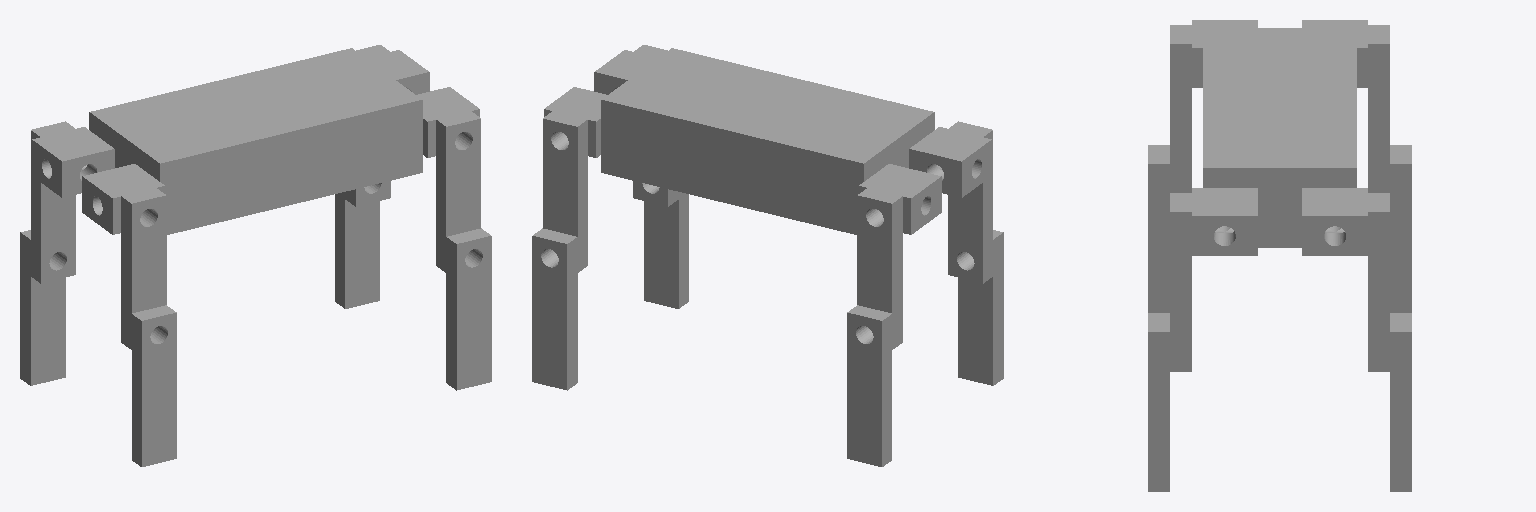
URDF robot description (dot):
<?xml version="1.0" encoding="utf-8"?>
<!-- =================================================================================== -->
<!-- |    This document was autogenerated by xacro from dot.xacro                      | -->
<!-- |    EDITING THIS FILE BY HAND IS NOT RECOMMENDED                                 | -->
<!-- =================================================================================== -->
<robot name="dot">
  <material name="silver">
    <color rgba="0.700 0.700 0.700 1.000"/>
  </material>
  <transmission name="Rev1_tran">
    <type>transmission_interface/SimpleTransmission</type>
    <joint name="Rev1">
      <hardwareInterface>hardware_interface/EffortJointInterface</hardwareInterface>
    </joint>
    <actuator name="Rev1_actr">
      <hardwareInterface>hardware_interface/EffortJointInterface</hardwareInterface>
      <mechanicalReduction>1</mechanicalReduction>
    </actuator>
  </transmission>
  <transmission name="Rev2_tran">
    <type>transmission_interface/SimpleTransmission</type>
    <joint name="Rev2">
      <hardwareInterface>hardware_interface/EffortJointInterface</hardwareInterface>
    </joint>
    <actuator name="Rev2_actr">
      <hardwareInterface>hardware_interface/EffortJointInterface</hardwareInterface>
      <mechanicalReduction>1</mechanicalReduction>
    </actuator>
  </transmission>
  <transmission name="Rev3_tran">
    <type>transmission_interface/SimpleTransmission</type>
    <joint name="Rev3">
      <hardwareInterface>hardware_interface/EffortJointInterface</hardwareInterface>
    </joint>
    <actuator name="Rev3_actr">
      <hardwareInterface>hardware_interface/EffortJointInterface</hardwareInterface>
      <mechanicalReduction>1</mechanicalReduction>
    </actuator>
  </transmission>
  <transmission name="Rev4_tran">
    <type>transmission_interface/SimpleTransmission</type>
    <joint name="Rev4">
      <hardwareInterface>hardware_interface/EffortJointInterface</hardwareInterface>
    </joint>
    <actuator name="Rev4_actr">
      <hardwareInterface>hardware_interface/EffortJointInterface</hardwareInterface>
      <mechanicalReduction>1</mechanicalReduction>
    </actuator>
  </transmission>
  <transmission name="Rev5_tran">
    <type>transmission_interface/SimpleTransmission</type>
    <joint name="Rev5">
      <hardwareInterface>hardware_interface/EffortJointInterface</hardwareInterface>
    </joint>
    <actuator name="Rev5_actr">
      <hardwareInterface>hardware_interface/EffortJointInterface</hardwareInterface>
      <mechanicalReduction>1</mechanicalReduction>
    </actuator>
  </transmission>
  <transmission name="Rev6_tran">
    <type>transmission_interface/SimpleTransmission</type>
    <joint name="Rev6">
      <hardwareInterface>hardware_interface/EffortJointInterface</hardwareInterface>
    </joint>
    <actuator name="Rev6_actr">
      <hardwareInterface>hardware_interface/EffortJointInterface</hardwareInterface>
      <mechanicalReduction>1</mechanicalReduction>
    </actuator>
  </transmission>
  <transmission name="Rev7_tran">
    <type>transmission_interface/SimpleTransmission</type>
    <joint name="Rev7">
      <hardwareInterface>hardware_interface/EffortJointInterface</hardwareInterface>
    </joint>
    <actuator name="Rev7_actr">
      <hardwareInterface>hardware_interface/EffortJointInterface</hardwareInterface>
      <mechanicalReduction>1</mechanicalReduction>
    </actuator>
  </transmission>
  <transmission name="Rev8_tran">
    <type>transmission_interface/SimpleTransmission</type>
    <joint name="Rev8">
      <hardwareInterface>hardware_interface/EffortJointInterface</hardwareInterface>
    </joint>
    <actuator name="Rev8_actr">
      <hardwareInterface>hardware_interface/EffortJointInterface</hardwareInterface>
      <mechanicalReduction>1</mechanicalReduction>
    </actuator>
  </transmission>
  <transmission name="Rev9_tran">
    <type>transmission_interface/SimpleTransmission</type>
    <joint name="Rev9">
      <hardwareInterface>hardware_interface/EffortJointInterface</hardwareInterface>
    </joint>
    <actuator name="Rev9_actr">
      <hardwareInterface>hardware_interface/EffortJointInterface</hardwareInterface>
      <mechanicalReduction>1</mechanicalReduction>
    </actuator>
  </transmission>
  <transmission name="Rev10_tran">
    <type>transmission_interface/SimpleTransmission</type>
    <joint name="Rev10">
      <hardwareInterface>hardware_interface/EffortJointInterface</hardwareInterface>
    </joint>
    <actuator name="Rev10_actr">
      <hardwareInterface>hardware_interface/EffortJointInterface</hardwareInterface>
      <mechanicalReduction>1</mechanicalReduction>
    </actuator>
  </transmission>
  <transmission name="Rev11_tran">
    <type>transmission_interface/SimpleTransmission</type>
    <joint name="Rev11">
      <hardwareInterface>hardware_interface/EffortJointInterface</hardwareInterface>
    </joint>
    <actuator name="Rev11_actr">
      <hardwareInterface>hardware_interface/EffortJointInterface</hardwareInterface>
      <mechanicalReduction>1</mechanicalReduction>
    </actuator>
  </transmission>
  <transmission name="Rev12_tran">
    <type>transmission_interface/SimpleTransmission</type>
    <joint name="Rev12">
      <hardwareInterface>hardware_interface/EffortJointInterface</hardwareInterface>
    </joint>
    <actuator name="Rev12_actr">
      <hardwareInterface>hardware_interface/EffortJointInterface</hardwareInterface>
      <mechanicalReduction>1</mechanicalReduction>
    </actuator>
  </transmission>
  <gazebo>
    <plugin filename="libgazebo_ros_control.so" name="control"/>
  </gazebo>
  <gazebo reference="base_link">
    <material>Gazebo/Silver</material>
    <mu1>0.2</mu1>
    <mu2>0.2</mu2>
    <selfCollide>true</selfCollide>
    <gravity>true</gravity>
  </gazebo>
  <gazebo reference="rf_hip_link_1">
    <material>Gazebo/Silver</material>
    <mu1>0.2</mu1>
    <mu2>0.2</mu2>
    <selfCollide>true</selfCollide>
  </gazebo>
  <gazebo reference="lf_hip_link_1">
    <material>Gazebo/Silver</material>
    <mu1>0.2</mu1>
    <mu2>0.2</mu2>
    <selfCollide>true</selfCollide>
  </gazebo>
  <gazebo reference="lh_hip_link_1">
    <material>Gazebo/Silver</material>
    <mu1>0.2</mu1>
    <mu2>0.2</mu2>
    <selfCollide>true</selfCollide>
  </gazebo>
  <gazebo reference="rh_hip_link_1">
    <material>Gazebo/Silver</material>
    <mu1>0.2</mu1>
    <mu2>0.2</mu2>
    <selfCollide>true</selfCollide>
  </gazebo>
  <gazebo reference="rf_upper_leg_link_1">
    <material>Gazebo/Silver</material>
    <mu1>0.2</mu1>
    <mu2>0.2</mu2>
    <selfCollide>true</selfCollide>
  </gazebo>
  <gazebo reference="lf_upper_leg_link_1">
    <material>Gazebo/Silver</material>
    <mu1>0.2</mu1>
    <mu2>0.2</mu2>
    <selfCollide>true</selfCollide>
  </gazebo>
  <gazebo reference="lh_upper_leg_link_1">
    <material>Gazebo/Silver</material>
    <mu1>0.2</mu1>
    <mu2>0.2</mu2>
    <selfCollide>true</selfCollide>
  </gazebo>
  <gazebo reference="rh_upper_leg_link_1">
    <material>Gazebo/Silver</material>
    <mu1>0.2</mu1>
    <mu2>0.2</mu2>
    <selfCollide>true</selfCollide>
  </gazebo>
  <gazebo reference="rf_lower_leg_link_1">
    <material>Gazebo/Silver</material>
    <mu1>0.2</mu1>
    <mu2>0.2</mu2>
    <selfCollide>true</selfCollide>
  </gazebo>
  <gazebo reference="lf_lower_leg_link_1">
    <material>Gazebo/Silver</material>
    <mu1>0.2</mu1>
    <mu2>0.2</mu2>
    <selfCollide>true</selfCollide>
  </gazebo>
  <gazebo reference="lh_lower_leg_link_1">
    <material>Gazebo/Silver</material>
    <mu1>0.2</mu1>
    <mu2>0.2</mu2>
    <selfCollide>true</selfCollide>
  </gazebo>
  <gazebo reference="rh_lower_leg_link_1">
    <material>Gazebo/Silver</material>
    <mu1>0.2</mu1>
    <mu2>0.2</mu2>
    <selfCollide>true</selfCollide>
  </gazebo>
  <link name="base_link">
    <inertial>
      <origin rpy="0 0 0" xyz="0.0 0.0 0.0"/>
      <mass value="3.112038732519901"/>
      <inertia ixx="0.001668" ixy="0.0" ixz="0.0" iyy="0.006274" iyz="0.0" izz="0.007065"/>
    </inertial>
    <visual>
      <origin rpy="0 0 0" xyz="0 0 0"/>
      <geometry>
        <mesh filename="package://dot_description/meshes/base_link.stl" scale="0.001 0.001 0.001"/>
      </geometry>
      <material name="silver"/>
    </visual>
    <collision>
      <origin rpy="0 0 0" xyz="0 0 0"/>
      <geometry>
        <mesh filename="package://dot_description/meshes/base_link.stl" scale="0.001 0.001 0.001"/>
      </geometry>
    </collision>
  </link>
  <link name="rf_hip_link_1">
    <inertial>
      <origin rpy="0 0 0" xyz="0.014999999999911737 8.828354713941167e-14 0.0"/>
      <mass value="0.1095410798373143"/>
      <inertia ixx="1.4e-05" ixy="0.0" ixz="0.0" iyy="1.4e-05" iyz="0.0" izz="1.8e-05"/>
    </inertial>
    <visual>
      <origin rpy="0 0 0" xyz="-0.075 0.025 -0.0"/>
      <geometry>
        <mesh filename="package://dot_description/meshes/rf_hip_link_1.stl" scale="0.001 0.001 0.001"/>
      </geometry>
      <material name="silver"/>
    </visual>
    <collision>
      <origin rpy="0 0 0" xyz="-0.075 0.025 -0.0"/>
      <geometry>
        <mesh filename="package://dot_description/meshes/rf_hip_link_1.stl" scale="0.001 0.001 0.001"/>
      </geometry>
    </collision>
  </link>
  <link name="lf_hip_link_1">
    <inertial>
      <origin rpy="0 0 0" xyz="0.014999999999911737 8.828354713941167e-14 0.0"/>
      <mass value="0.1095410798373143"/>
      <inertia ixx="1.4e-05" ixy="0.0" ixz="0.0" iyy="1.4e-05" iyz="0.0" izz="1.8e-05"/>
    </inertial>
    <visual>
      <origin rpy="0 0 0" xyz="-0.075 -0.025 -0.0"/>
      <geometry>
        <mesh filename="package://dot_description/meshes/lf_hip_link_1.stl" scale="0.001 0.001 0.001"/>
      </geometry>
      <material name="silver"/>
    </visual>
    <collision>
      <origin rpy="0 0 0" xyz="-0.075 -0.025 -0.0"/>
      <geometry>
        <mesh filename="package://dot_description/meshes/lf_hip_link_1.stl" scale="0.001 0.001 0.001"/>
      </geometry>
    </collision>
  </link>
  <link name="lh_hip_link_1">
    <inertial>
      <origin rpy="0 0 0" xyz="-0.01500000000008829 8.828354713941167e-14 0.0"/>
      <mass value="0.1095410798373143"/>
      <inertia ixx="1.4e-05" ixy="-0.0" ixz="-0.0" iyy="1.4e-05" iyz="0.0" izz="1.8e-05"/>
    </inertial>
    <visual>
      <origin rpy="0 0 0" xyz="0.075 -0.025 -0.0"/>
      <geometry>
        <mesh filename="package://dot_description/meshes/lh_hip_link_1.stl" scale="0.001 0.001 0.001"/>
      </geometry>
      <material name="silver"/>
    </visual>
    <collision>
      <origin rpy="0 0 0" xyz="0.075 -0.025 -0.0"/>
      <geometry>
        <mesh filename="package://dot_description/meshes/lh_hip_link_1.stl" scale="0.001 0.001 0.001"/>
      </geometry>
    </collision>
  </link>
  <link name="rh_hip_link_1">
    <inertial>
      <origin rpy="0 0 0" xyz="-0.01500000000008829 8.828354713941167e-14 0.0"/>
      <mass value="0.1095410798373143"/>
      <inertia ixx="1.4e-05" ixy="0.0" ixz="-0.0" iyy="1.4e-05" iyz="0.0" izz="1.8e-05"/>
    </inertial>
    <visual>
      <origin rpy="0 0 0" xyz="0.075 0.025 -0.0"/>
      <geometry>
        <mesh filename="package://dot_description/meshes/rh_hip_link_1.stl" scale="0.001 0.001 0.001"/>
      </geometry>
      <material name="silver"/>
    </visual>
    <collision>
      <origin rpy="0 0 0" xyz="0.075 0.025 -0.0"/>
      <geometry>
        <mesh filename="package://dot_description/meshes/rh_hip_link_1.stl" scale="0.001 0.001 0.001"/>
      </geometry>
    </collision>
  </link>
  <link name="rf_upper_leg_link_1">
    <inertial>
      <origin rpy="0 0 0" xyz="-5.69266855876549e-14 -0.0049999999999999906 -0.030000000000000006"/>
      <mass value="0.11326924883465952"/>
      <inertia ixx="5.7e-05" ixy="0.0" ixz="-0.0" iyy="6e-05" iyz="0.0" izz="5e-06"/>
    </inertial>
    <visual>
      <origin rpy="0 0 0" xyz="-0.09 0.04 -0.0"/>
      <geometry>
        <mesh filename="package://dot_description/meshes/rf_upper_leg_link_1.stl" scale="0.001 0.001 0.001"/>
      </geometry>
      <material name="silver"/>
    </visual>
    <collision>
      <origin rpy="0 0 0" xyz="-0.09 0.04 -0.0"/>
      <geometry>
        <mesh filename="package://dot_description/meshes/rf_upper_leg_link_1.stl" scale="0.001 0.001 0.001"/>
      </geometry>
    </collision>
  </link>
  <link name="lf_upper_leg_link_1">
    <inertial>
      <origin rpy="0 0 0" xyz="-5.69266855876549e-14 0.0049999999999999975 -0.030000000000000006"/>
      <mass value="0.11326924883465952"/>
      <inertia ixx="5.7e-05" ixy="-0.0" ixz="-0.0" iyy="6e-05" iyz="-0.0" izz="5e-06"/>
    </inertial>
    <visual>
      <origin rpy="0 0 0" xyz="-0.09 -0.04 -0.0"/>
      <geometry>
        <mesh filename="package://dot_description/meshes/lf_upper_leg_link_1.stl" scale="0.001 0.001 0.001"/>
      </geometry>
      <material name="silver"/>
    </visual>
    <collision>
      <origin rpy="0 0 0" xyz="-0.09 -0.04 -0.0"/>
      <geometry>
        <mesh filename="package://dot_description/meshes/lf_upper_leg_link_1.stl" scale="0.001 0.001 0.001"/>
      </geometry>
    </collision>
  </link>
  <link name="lh_upper_leg_link_1">
    <inertial>
      <origin rpy="0 0 0" xyz="5.69266855876549e-14 0.0049999999999999975 -0.030000000000000006"/>
      <mass value="0.11326924883465952"/>
      <inertia ixx="5.7e-05" ixy="0.0" ixz="0.0" iyy="6e-05" iyz="-0.0" izz="5e-06"/>
    </inertial>
    <visual>
      <origin rpy="0 0 0" xyz="0.09 -0.04 -0.0"/>
      <geometry>
        <mesh filename="package://dot_description/meshes/lh_upper_leg_link_1.stl" scale="0.001 0.001 0.001"/>
      </geometry>
      <material name="silver"/>
    </visual>
    <collision>
      <origin rpy="0 0 0" xyz="0.09 -0.04 -0.0"/>
      <geometry>
        <mesh filename="package://dot_description/meshes/lh_upper_leg_link_1.stl" scale="0.001 0.001 0.001"/>
      </geometry>
    </collision>
  </link>
  <link name="rh_upper_leg_link_1">
    <inertial>
      <origin rpy="0 0 0" xyz="5.69266855876549e-14 -0.0049999999999999906 -0.030000000000000006"/>
      <mass value="0.11326924883465952"/>
      <inertia ixx="5.7e-05" ixy="-0.0" ixz="0.0" iyy="6e-05" iyz="0.0" izz="5e-06"/>
    </inertial>
    <visual>
      <origin rpy="0 0 0" xyz="0.09 0.04 -0.0"/>
      <geometry>
        <mesh filename="package://dot_description/meshes/rh_upper_leg_link_1.stl" scale="0.001 0.001 0.001"/>
      </geometry>
      <material name="silver"/>
    </visual>
    <collision>
      <origin rpy="0 0 0" xyz="0.09 0.04 -0.0"/>
      <geometry>
        <mesh filename="package://dot_description/meshes/rh_upper_leg_link_1.stl" scale="0.001 0.001 0.001"/>
      </geometry>
    </collision>
  </link>
  <link name="rf_lower_leg_link_1">
    <inertial>
      <origin rpy="0 0 0" xyz="-2.6978419498391304e-14 -0.0049999999999999975 -0.03154864025723239"/>
      <mass value="0.11943462441732976"/>
      <inertia ixx="6.2e-05" ixy="-0.0" ixz="0.0" iyy="6.5e-05" iyz="0.0" izz="5e-06"/>
    </inertial>
    <visual>
      <origin rpy="0 0 0" xyz="-0.09 0.05 0.06"/>
      <geometry>
        <mesh filename="package://dot_description/meshes/rf_lower_leg_link_1.stl" scale="0.001 0.001 0.001"/>
      </geometry>
      <material name="silver"/>
    </visual>
    <collision>
      <origin rpy="0 0 0" xyz="-0.09 0.05 0.06"/>
      <geometry>
        <mesh filename="package://dot_description/meshes/rf_lower_leg_link_1.stl" scale="0.001 0.001 0.001"/>
      </geometry>
    </collision>
  </link>
  <link name="lf_lower_leg_link_1">
    <inertial>
      <origin rpy="0 0 0" xyz="-2.6978419498391304e-14 0.0050000000000000044 -0.03154864025723239"/>
      <mass value="0.11943462441732976"/>
      <inertia ixx="6.2e-05" ixy="0.0" ixz="0.0" iyy="6.5e-05" iyz="-0.0" izz="5e-06"/>
    </inertial>
    <visual>
      <origin rpy="0 0 0" xyz="-0.09 -0.05 0.06"/>
      <geometry>
        <mesh filename="package://dot_description/meshes/lf_lower_leg_link_1.stl" scale="0.001 0.001 0.001"/>
      </geometry>
      <material name="silver"/>
    </visual>
    <collision>
      <origin rpy="0 0 0" xyz="-0.09 -0.05 0.06"/>
      <geometry>
        <mesh filename="package://dot_description/meshes/lf_lower_leg_link_1.stl" scale="0.001 0.001 0.001"/>
      </geometry>
    </collision>
  </link>
  <link name="lh_lower_leg_link_1">
    <inertial>
      <origin rpy="0 0 0" xyz="2.6978419498391304e-14 0.0050000000000000044 -0.03154864025723239"/>
      <mass value="0.11943462441732976"/>
      <inertia ixx="6.2e-05" ixy="-0.0" ixz="-0.0" iyy="6.5e-05" iyz="-0.0" izz="5e-06"/>
    </inertial>
    <visual>
      <origin rpy="0 0 0" xyz="0.09 -0.05 0.06"/>
      <geometry>
        <mesh filename="package://dot_description/meshes/lh_lower_leg_link_1.stl" scale="0.001 0.001 0.001"/>
      </geometry>
      <material name="silver"/>
    </visual>
    <collision>
      <origin rpy="0 0 0" xyz="0.09 -0.05 0.06"/>
      <geometry>
        <mesh filename="package://dot_description/meshes/lh_lower_leg_link_1.stl" scale="0.001 0.001 0.001"/>
      </geometry>
    </collision>
  </link>
  <link name="rh_lower_leg_link_1">
    <inertial>
      <origin rpy="0 0 0" xyz="2.6978419498391304e-14 -0.0049999999999999975 -0.03154864025723239"/>
      <mass value="0.11943462441732976"/>
      <inertia ixx="6.2e-05" ixy="0.0" ixz="-0.0" iyy="6.5e-05" iyz="0.0" izz="5e-06"/>
    </inertial>
    <visual>
      <origin rpy="0 0 0" xyz="0.09 0.05 0.06"/>
      <geometry>
        <mesh filename="package://dot_description/meshes/rh_lower_leg_link_1.stl" scale="0.001 0.001 0.001"/>
      </geometry>
      <material name="silver"/>
    </visual>
    <collision>
      <origin rpy="0 0 0" xyz="0.09 0.05 0.06"/>
      <geometry>
        <mesh filename="package://dot_description/meshes/rh_lower_leg_link_1.stl" scale="0.001 0.001 0.001"/>
      </geometry>
    </collision>
  </link>
  <link name="rf_foot_link"/>
  <link name="lf_foot_link"/>
  <link name="rh_foot_link"/>
  <link name="lh_foot_link"/>
  <joint name="Rev1" type="continuous">
    <origin rpy="0 0 0" xyz="0.075 -0.025 0.0"/>
    <parent link="base_link"/>
    <child link="rf_hip_link_1"/>
    <axis xyz="1.0 0.0 0.0"/>
  </joint>
  <joint name="Rev2" type="continuous">
    <origin rpy="0 0 0" xyz="0.075 0.025 0.0"/>
    <parent link="base_link"/>
    <child link="lf_hip_link_1"/>
    <axis xyz="1.0 0.0 0.0"/>
  </joint>
  <joint name="Rev3" type="continuous">
    <origin rpy="0 0 0" xyz="-0.075 0.025 0.0"/>
    <parent link="base_link"/>
    <child link="lh_hip_link_1"/>
    <axis xyz="1.0 0.0 0.0"/>
  </joint>
  <joint name="Rev4" type="continuous">
    <origin rpy="0 0 0" xyz="-0.075 -0.025 0.0"/>
    <parent link="base_link"/>
    <child link="rh_hip_link_1"/>
    <axis xyz="1.0 0.0 0.0"/>
  </joint>
  <joint name="Rev5" type="continuous">
    <origin rpy="0 0 0" xyz="0.015 -0.015 0.0"/>
    <parent link="rf_hip_link_1"/>
    <child link="rf_upper_leg_link_1"/>
    <axis xyz="0.0 1.0 0.0"/>
  </joint>
  <joint name="Rev6" type="continuous">
    <origin rpy="0 0 0" xyz="0.015 0.015 0.0"/>
    <parent link="lf_hip_link_1"/>
    <child link="lf_upper_leg_link_1"/>
    <axis xyz="0.0 1.0 0.0"/>
  </joint>
  <joint name="Rev7" type="continuous">
    <origin rpy="0 0 0" xyz="-0.015 0.015 0.0"/>
    <parent link="lh_hip_link_1"/>
    <child link="lh_upper_leg_link_1"/>
    <axis xyz="0.0 1.0 0.0"/>
  </joint>
  <joint name="Rev8" type="continuous">
    <origin rpy="0 0 0" xyz="-0.015 -0.015 0.0"/>
    <parent link="rh_hip_link_1"/>
    <child link="rh_upper_leg_link_1"/>
    <axis xyz="0.0 1.0 0.0"/>
  </joint>
  <joint name="Rev9" type="continuous">
    <origin rpy="0 0 0" xyz="0.0 -0.01 -0.06"/>
    <parent link="rf_upper_leg_link_1"/>
    <child link="rf_lower_leg_link_1"/>
    <axis xyz="0.0 1.0 0.0"/>
  </joint>
  <joint name="Rev10" type="continuous">
    <origin rpy="0 0 0" xyz="0.0 0.01 -0.06"/>
    <parent link="lf_upper_leg_link_1"/>
    <child link="lf_lower_leg_link_1"/>
    <axis xyz="0.0 1.0 0.0"/>
  </joint>
  <joint name="Rev11" type="continuous">
    <origin rpy="0 0 0" xyz="0.0 0.01 -0.06"/>
    <parent link="lh_upper_leg_link_1"/>
    <child link="lh_lower_leg_link_1"/>
    <axis xyz="0.0 1.0 0.0"/>
  </joint>
  <joint name="Rev12" type="continuous">
    <origin rpy="0 0 0" xyz="0.0 -0.01 -0.06"/>
    <parent link="rh_upper_leg_link_1"/>
    <child link="rh_lower_leg_link_1"/>
    <axis xyz="0.0 1.0 0.0"/>
  </joint>
  <joint name="RFfoot" type="fixed">
    <origin rpy="0 0 0" xyz="0.0 0.0 -0.07"/>
    <parent link="rf_lower_leg_link_1"/>
    <child link="rf_foot_link"/>
  </joint>
  <joint name="LFfoot" type="fixed">
    <origin rpy="0 0 0" xyz="0.0 0.0 -0.07"/>
    <parent link="lf_lower_leg_link_1"/>
    <child link="lf_foot_link"/>
  </joint>
  <joint name="LHfoot" type="fixed">
    <origin rpy="0 0 0" xyz="0.0 0.0 -0.07"/>
    <parent link="lh_lower_leg_link_1"/>
    <child link="lh_foot_link"/>
  </joint>
  <joint name="RHfoot" type="fixed">
    <origin rpy="0 0 0" xyz="0.0 0.0 -0.07"/>
    <parent link="rh_lower_leg_link_1"/>
    <child link="rh_foot_link"/>
  </joint>
</robot>

--- Render facts (derived) ---
3 views of the same robot in one strip: view 1: azimuth 30°, elevation 25°; view 2: azimuth 150°, elevation 25°; view 3: azimuth 270°, elevation 25° (orthographic).
Robot: dot — 17 links, 16 joints (12 continuous, 4 fixed); root link base_link; default pose: all joints at 0.
Links seen in each view (by area): view 1: base_link, rf_lower_leg_link_1, rh_lower_leg_link_1, rh_upper_leg_link_1, rf_upper_leg_link_1, lh_lower_leg_link_1, lf_lower_leg_link_1, lh_upper_leg_link_1, lh_hip_link_1, rh_hip_link_1, rf_hip_link_1, lf_hip_link_1 (+1 smaller); view 2: base_link, lf_lower_leg_link_1, lh_lower_leg_link_1, lh_upper_leg_link_1, lf_upper_leg_link_1, rh_lower_leg_link_1, rf_lower_leg_link_1, rh_upper_leg_link_1, rh_hip_link_1, lh_hip_link_1, lf_hip_link_1, rf_hip_link_1 (+1 smaller); view 3: base_link, rf_hip_link_1, lf_hip_link_1, rf_upper_leg_link_1, lf_upper_leg_link_1, rf_lower_leg_link_1, lf_lower_leg_link_1, lh_upper_leg_link_1, rh_upper_leg_link_1, lh_lower_leg_link_1, rh_lower_leg_link_1, lh_hip_link_1 (+1 smaller).
Boxes of the visible links, x1,y1,x2,y2 form: base_link: (89,48,422,234); rf_lower_leg_link_1: (446,228,491,390); rh_lower_leg_link_1: (132,305,176,466); rh_upper_leg_link_1: (121,188,166,349); rf_upper_leg_link_1: (436,111,480,272); lh_lower_leg_link_1: (20,230,65,385); lf_lower_leg_link_1: (335,192,379,308); lh_upper_leg_link_1: (31,121,75,283); lh_hip_link_1: (32,127,114,197); rh_hip_link_1: (82,164,164,234); rf_hip_link_1: (417,87,479,157); lf_hip_link_1: (366,50,429,94); base_link: (601,48,934,234); lf_lower_leg_link_1: (532,228,577,390); lh_lower_leg_link_1: (847,305,891,466); lh_upper_leg_link_1: (857,188,902,349); lf_upper_leg_link_1: (543,111,587,272); rh_lower_leg_link_1: (958,230,1003,385); rf_lower_leg_link_1: (644,192,688,308); rh_upper_leg_link_1: (948,121,992,283); rh_hip_link_1: (909,127,991,197); lh_hip_link_1: (859,164,941,234); lf_hip_link_1: (544,87,606,157); rf_hip_link_1: (594,50,657,94); base_link: (1203,28,1356,247); rf_hip_link_1: (1192,188,1257,255); lf_hip_link_1: (1302,188,1367,255); rf_upper_leg_link_1: (1170,193,1191,371); lf_upper_leg_link_1: (1368,193,1389,371); rf_lower_leg_link_1: (1148,313,1169,491); lf_lower_leg_link_1: (1390,313,1411,491); lh_upper_leg_link_1: (1368,25,1389,192); rh_upper_leg_link_1: (1170,25,1191,192); lh_lower_leg_link_1: (1390,145,1411,312); rh_lower_leg_link_1: (1148,145,1169,312); lh_hip_link_1: (1302,20,1367,87).
Size in the robot's own frame: 0.21 by 0.12 by 0.15 metres.
Meshes: 13 distinct files referenced, 13 mesh visuals loaded (13 binary STL).